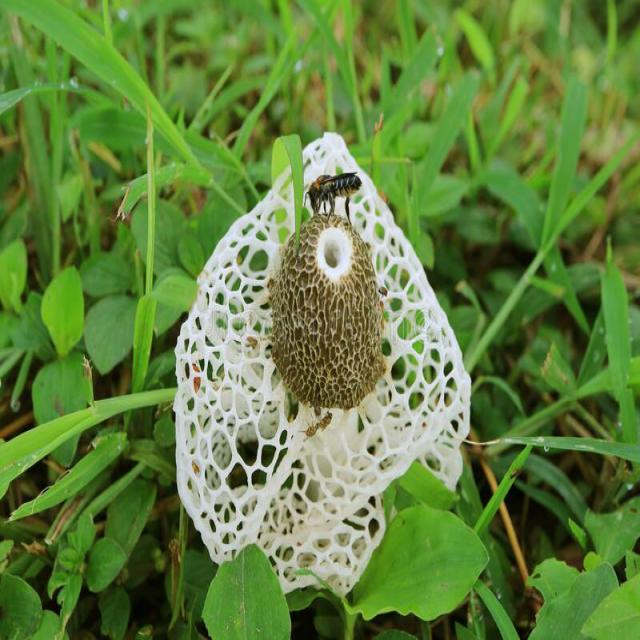Dictyophora indusiate: (176, 132, 472, 592)
